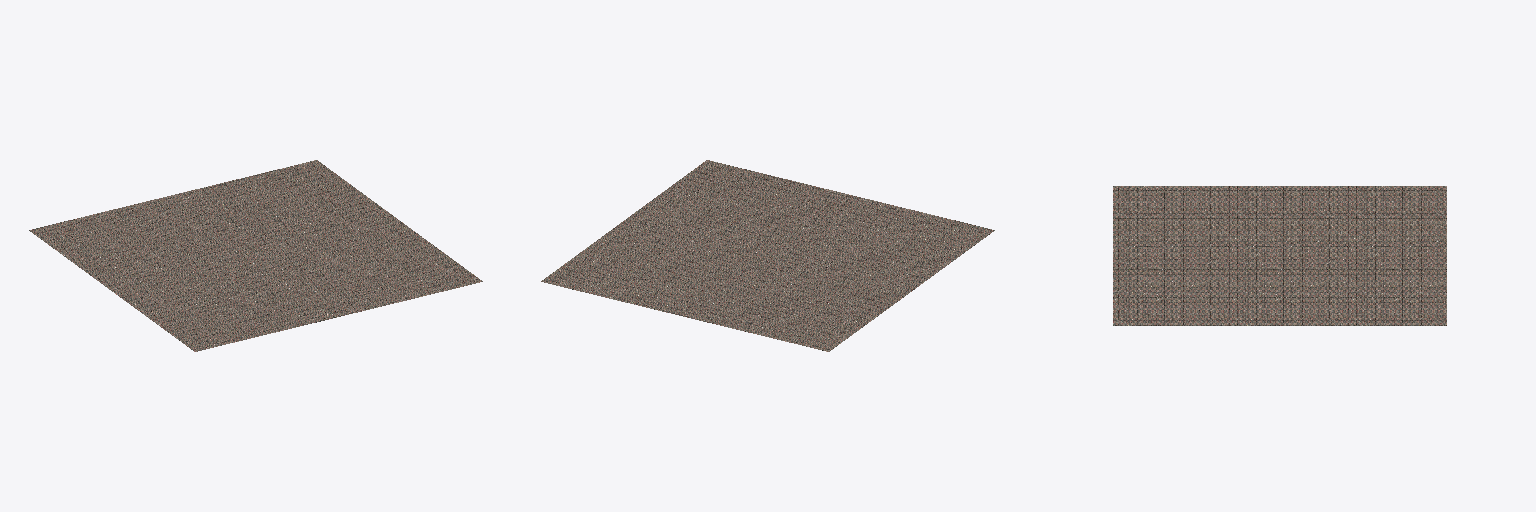
3 renders of one model, left to right at view 1: azimuth 30°, elevation 25°; view 2: azimuth 150°, elevation 25°; view 3: azimuth 270°, elevation 25°, orthographic.
Visible parts, largest first — view 1: Plane; view 2: Plane; view 3: Plane.
Part boxes in pixels (left/top/right/bottom): Plane: left=29, top=160, right=482, bottom=351; Plane: left=541, top=160, right=994, bottom=351; Plane: left=1113, top=186, right=1446, bottom=325.
Size of the model in its own units: 2000 by 0 by 2000.
1 materials, 1 textured.